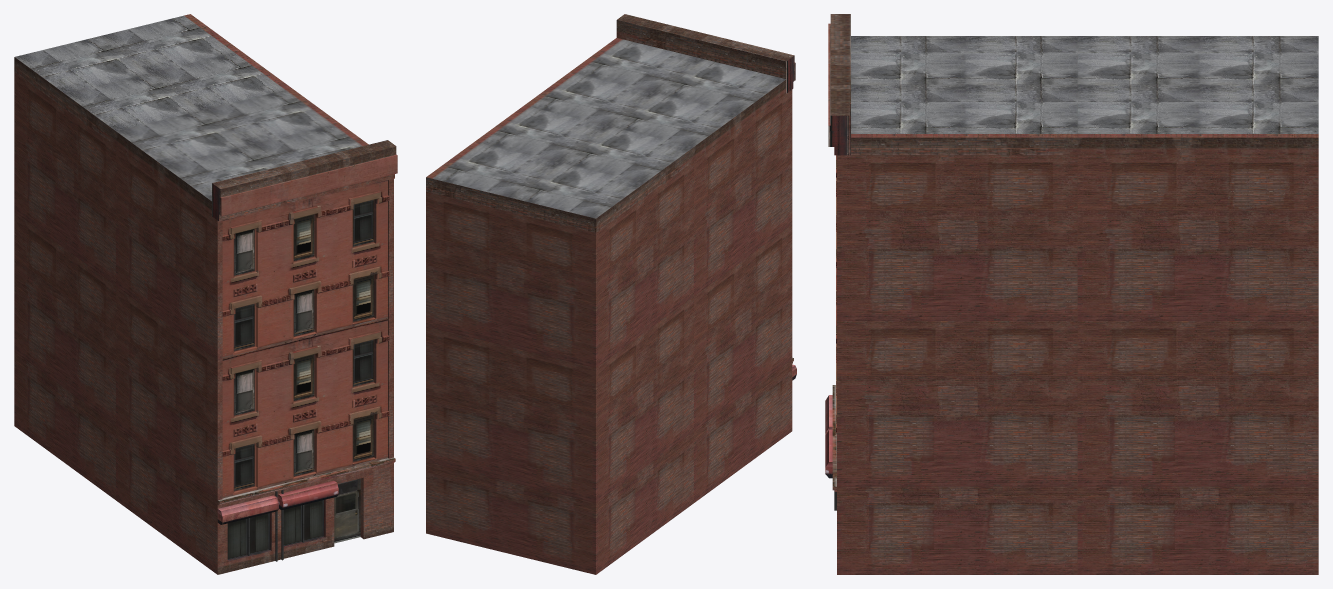
Rendered from Building9.glb.
3 renders of one model, left to right at view 1: azimuth 30°, elevation 25°; view 2: azimuth 150°, elevation 25°; view 3: azimuth 270°, elevation 25°, orthographic. The views are drawn at different scales.
Parts seen in each view (by area): view 1: Brownstone_FlatFacade_4; view 2: Brownstone_FlatFacade_4; view 3: Brownstone_FlatFacade_4.
Boxes of the visible parts, box(x1,y1,x2,y2) form: Brownstone_FlatFacade_4: box(14, 14, 397, 574); Brownstone_FlatFacade_4: box(426, 14, 796, 574); Brownstone_FlatFacade_4: box(825, 14, 1318, 574).
Bounding box in the file's own units: 10 × 21.04 × 20.48.
2 materials, 2 textured.
